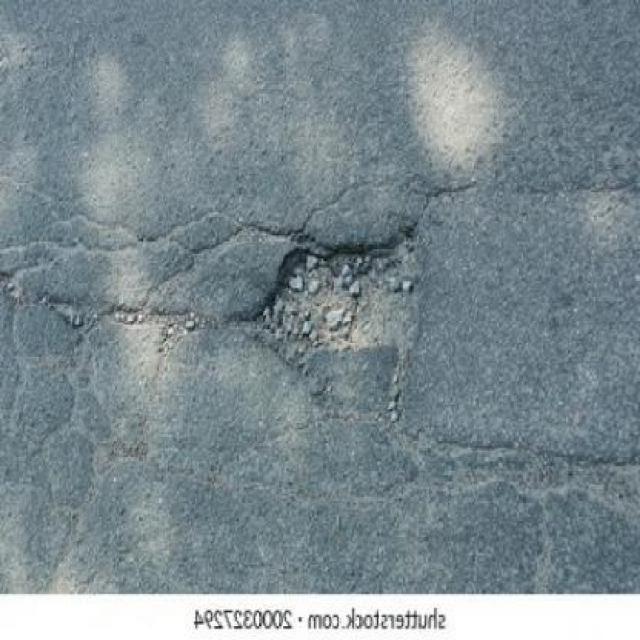pothole: (248, 222, 425, 387)
